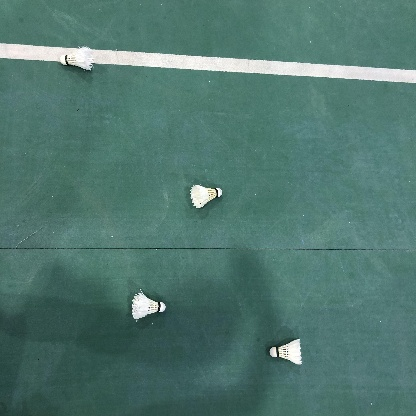ball_single: (269, 339, 302, 365), (132, 293, 165, 319), (60, 47, 94, 70), (190, 185, 222, 209)
